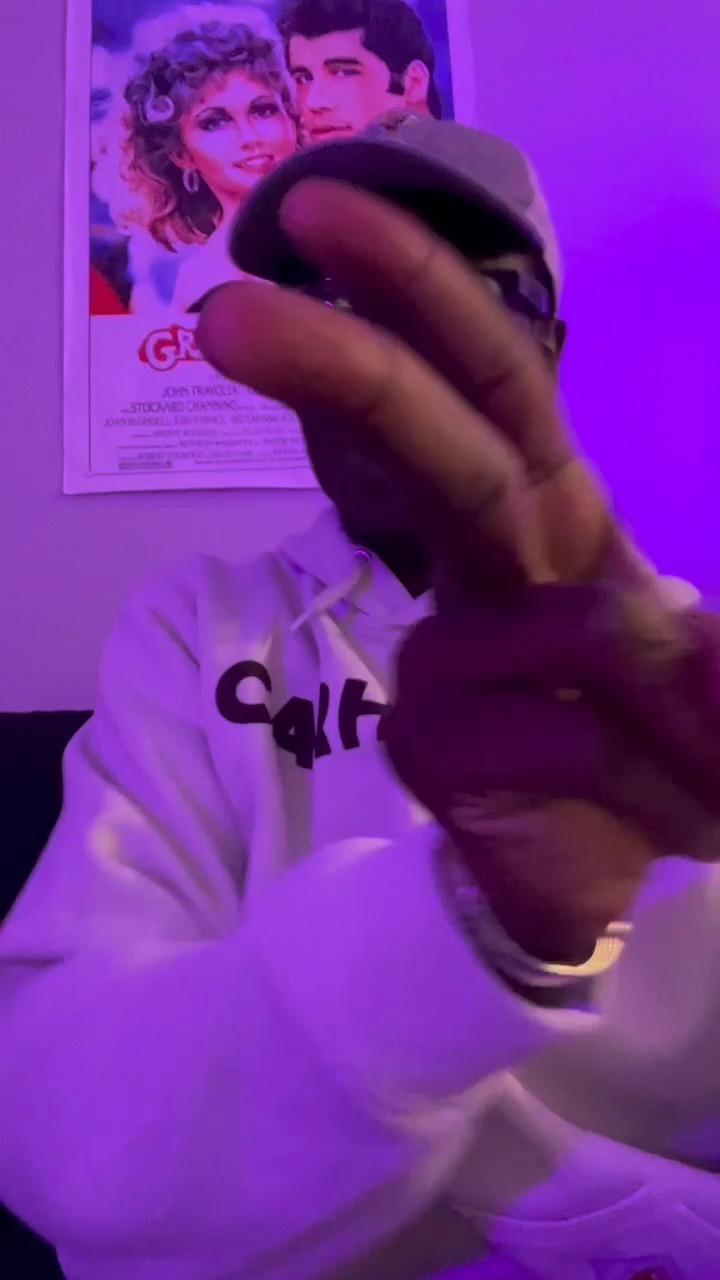Scissors: (194, 174, 720, 922)
